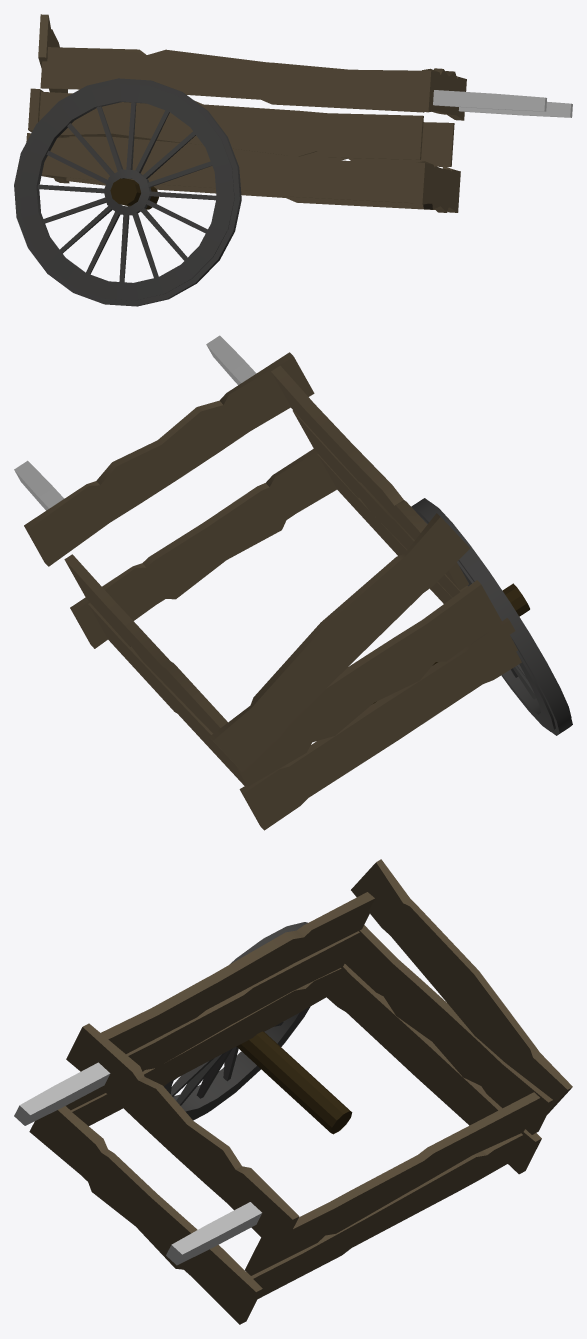
Rendered from Carreta.fbx.
The picture shows the model from 3 angles, top to bottom: view 1: azimuth 30°, elevation 25°; view 2: azimuth 150°, elevation 25°; view 3: azimuth 270°, elevation 25°; orthographic projection. The views are drawn at different scales.
Visible parts, largest first — view 1: Carreta; view 2: Carreta; view 3: Carreta.
Part boxes in pixels (box(x1,y1,x2,y2)): Carreta: box(14, 14, 572, 306); Carreta: box(14, 335, 572, 830); Carreta: box(14, 859, 572, 1324).
Bounding box in the file's own units: 728 × 329 × 616.
